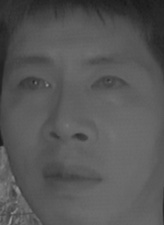eye: (89, 72, 131, 95), (15, 74, 54, 97)
mouth: (40, 156, 103, 199)
